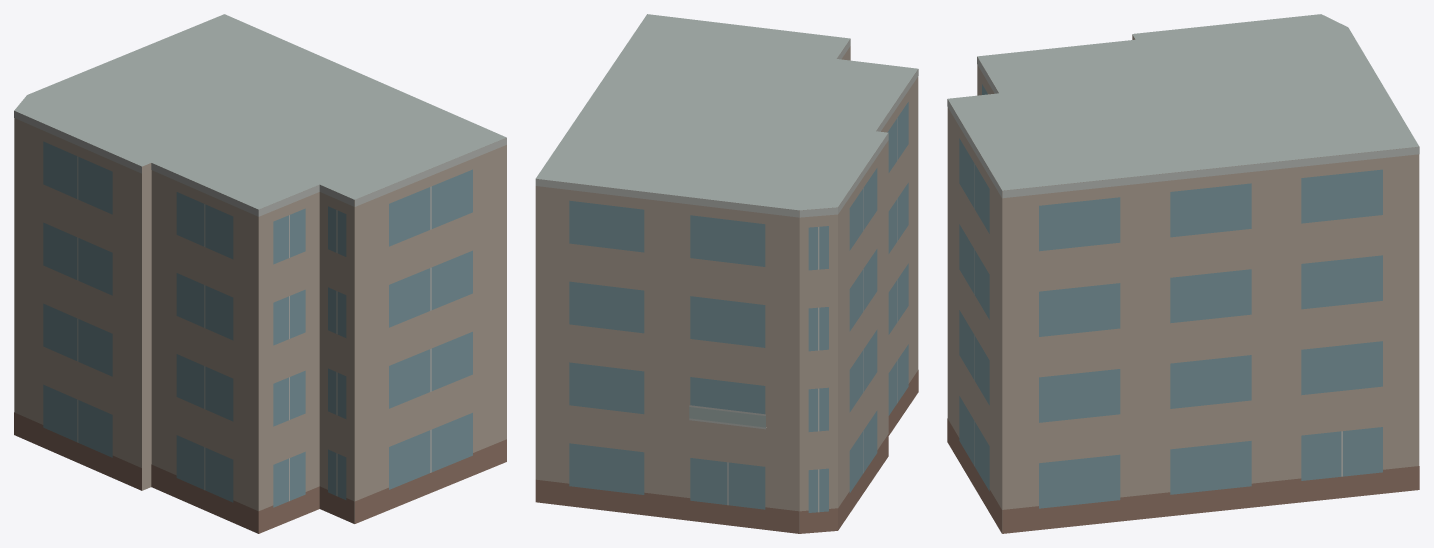
File: survey-upis-32549372.glb
3 renders of one model, left to right at view 1: azimuth 30°, elevation 25°; view 2: azimuth 150°, elevation 25°; view 3: azimuth 270°, elevation 25°, orthographic. The views are drawn at different scales.
Visible parts, largest first — view 1: survey-upis-32549372.tmp; view 2: survey-upis-32549372.tmp; view 3: survey-upis-32549372.tmp.
Part boxes in pixels (x1=…): survey-upis-32549372.tmp: x1=14, y1=14, x2=506, y2=533; survey-upis-32549372.tmp: x1=535, y1=14, x2=918, y2=533; survey-upis-32549372.tmp: x1=947, y1=14, x2=1419, y2=533.
Size of the model in its own units: 12.1 by 10.95 by 13.66.
